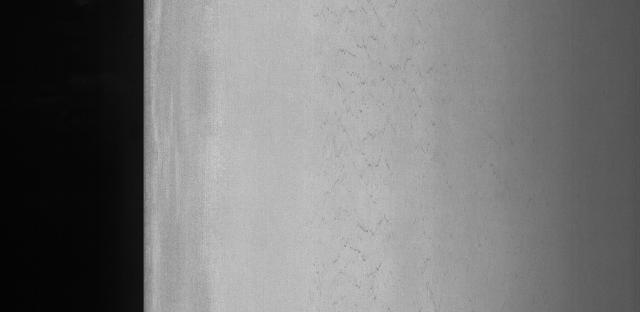silk_spot: (309, 4, 426, 312)
